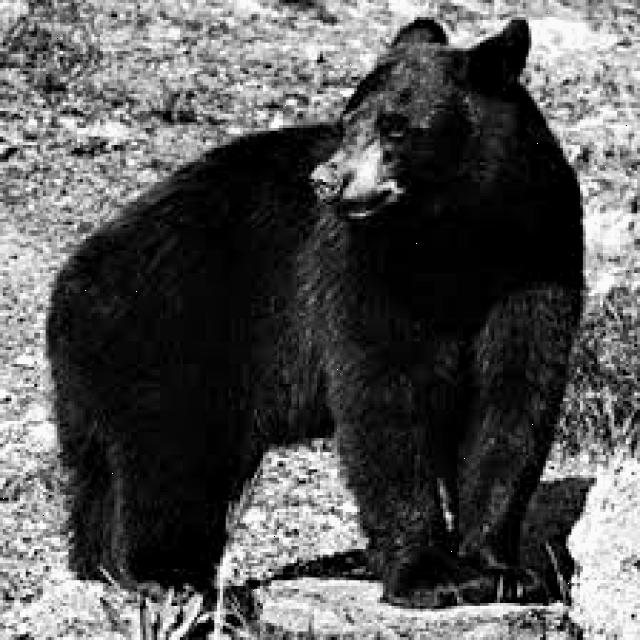bear: (29, 29, 590, 585)
